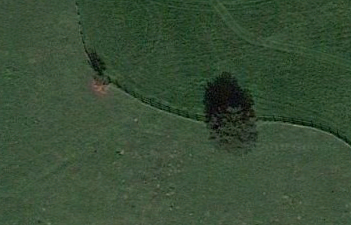tree: (202, 100, 263, 159)
